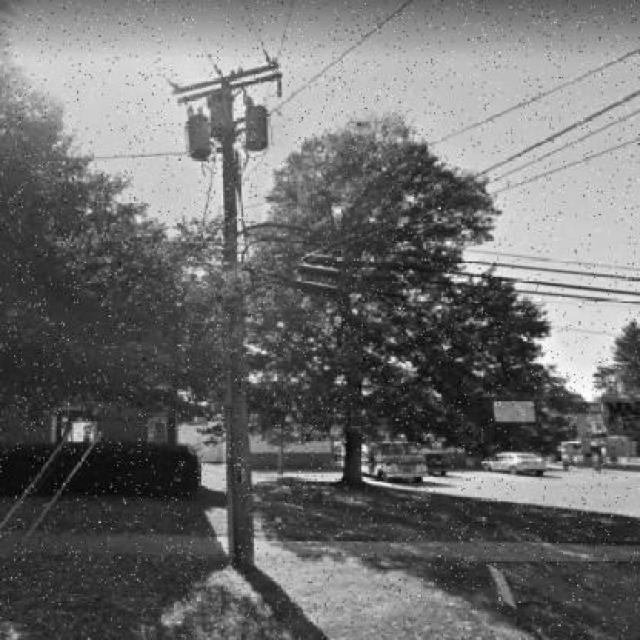pole: (134, 28, 343, 598)
